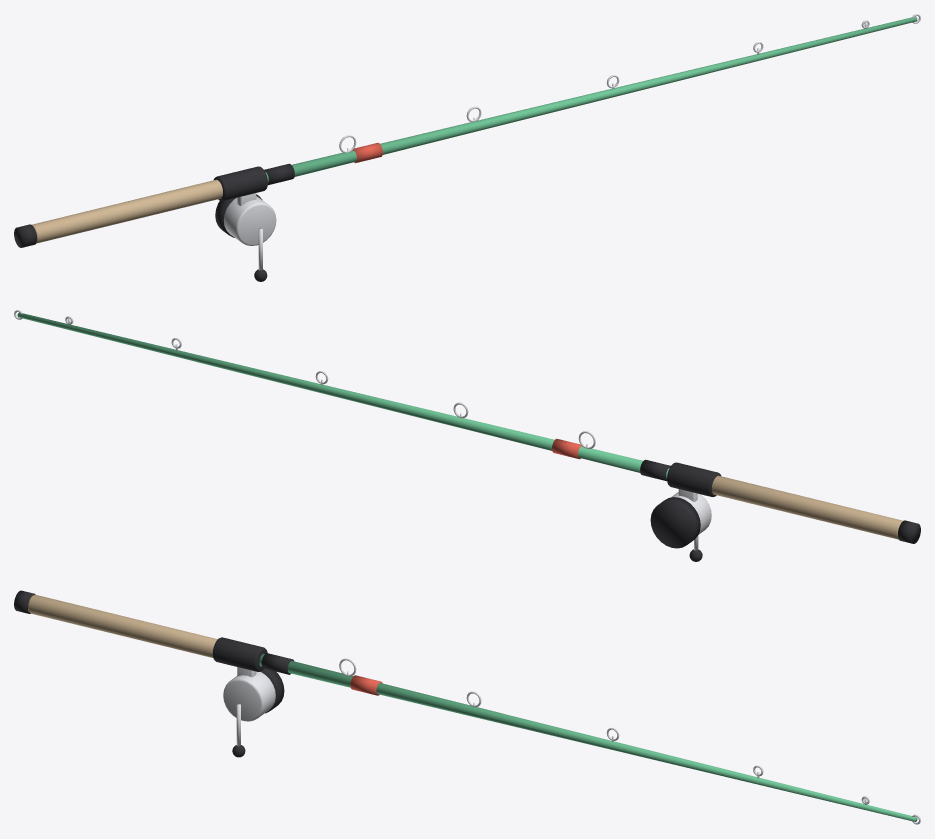
File: angelrute.glb
3 views of the same model, one above another, from view 1: azimuth 30°, elevation 25°; view 2: azimuth 150°, elevation 25°; view 3: azimuth 330°, elevation 25° (orthographic).
Visible parts, largest first — view 1: Beschlaege, Blank; view 2: Beschlaege, Blank; view 3: Beschlaege, Blank.
Boxes of the visible parts, box(x1,y1,x2,y2) form: Beschlaege: box(14, 14, 920, 281); Blank: box(265, 16, 917, 182); Beschlaege: box(14, 310, 920, 561); Blank: box(17, 312, 669, 478); Beschlaege: box(14, 590, 920, 824); Blank: box(259, 653, 917, 821).
Bounding box in the file's own units: 1.43 × 0.1727 × 0.075.
